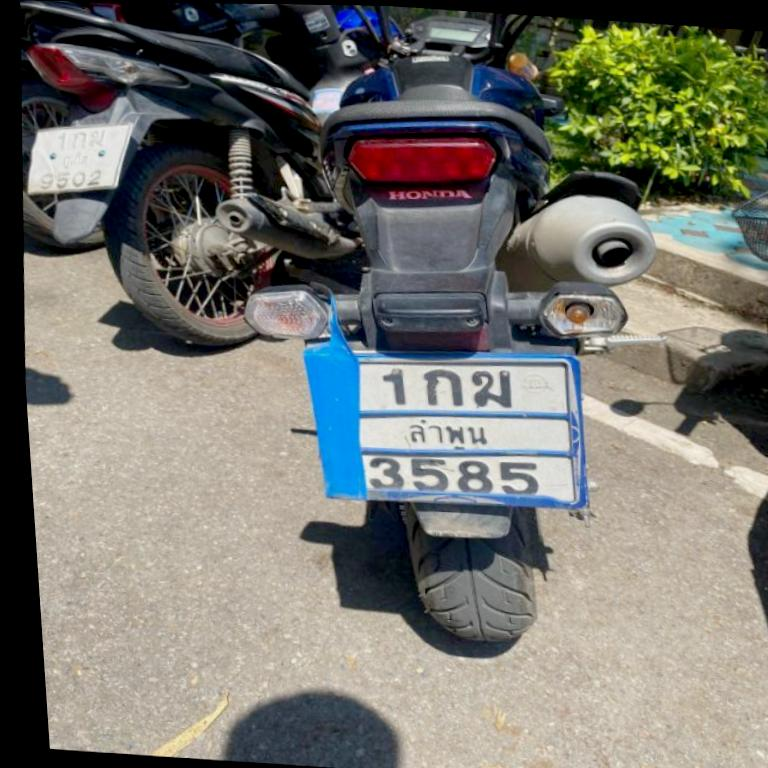license plate: (306, 335, 585, 506), (28, 124, 128, 192)
